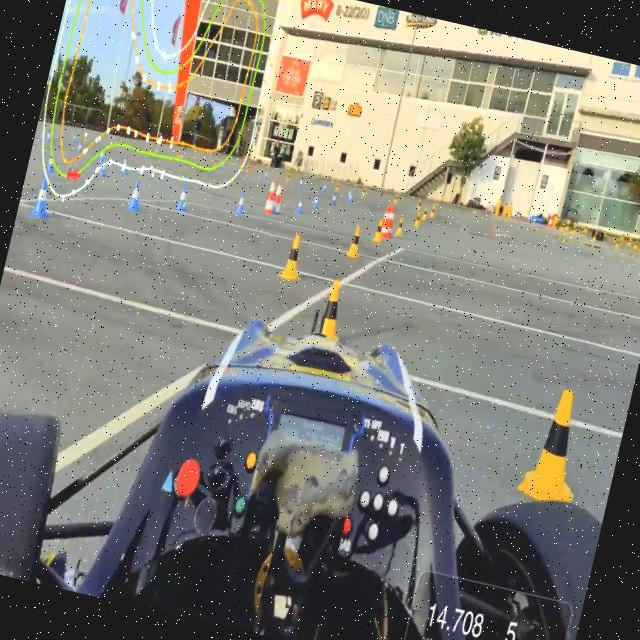blue_cone: (26, 175, 56, 224), (124, 176, 148, 215), (174, 178, 194, 215), (234, 190, 248, 216), (45, 150, 58, 174), (118, 158, 132, 178), (295, 194, 306, 216), (98, 158, 110, 178), (310, 192, 320, 212), (270, 194, 278, 215), (98, 146, 106, 166), (329, 191, 338, 207), (297, 176, 305, 190), (347, 192, 353, 205), (320, 183, 327, 194), (263, 170, 269, 182), (346, 190, 352, 202)
large_orange_cone: (263, 178, 279, 216), (383, 203, 399, 240), (378, 202, 393, 238), (272, 183, 287, 212)
yellow_cone: (510, 370, 602, 512), (313, 276, 352, 346), (276, 228, 308, 285), (344, 223, 366, 262), (371, 218, 386, 245), (394, 214, 406, 238), (412, 209, 422, 228), (420, 205, 430, 222), (428, 202, 437, 218), (284, 170, 292, 184), (334, 180, 341, 192), (416, 198, 422, 212), (244, 162, 251, 174), (392, 193, 399, 204), (633, 238, 639, 250), (626, 236, 632, 247), (361, 185, 366, 198), (638, 243, 640, 254)
